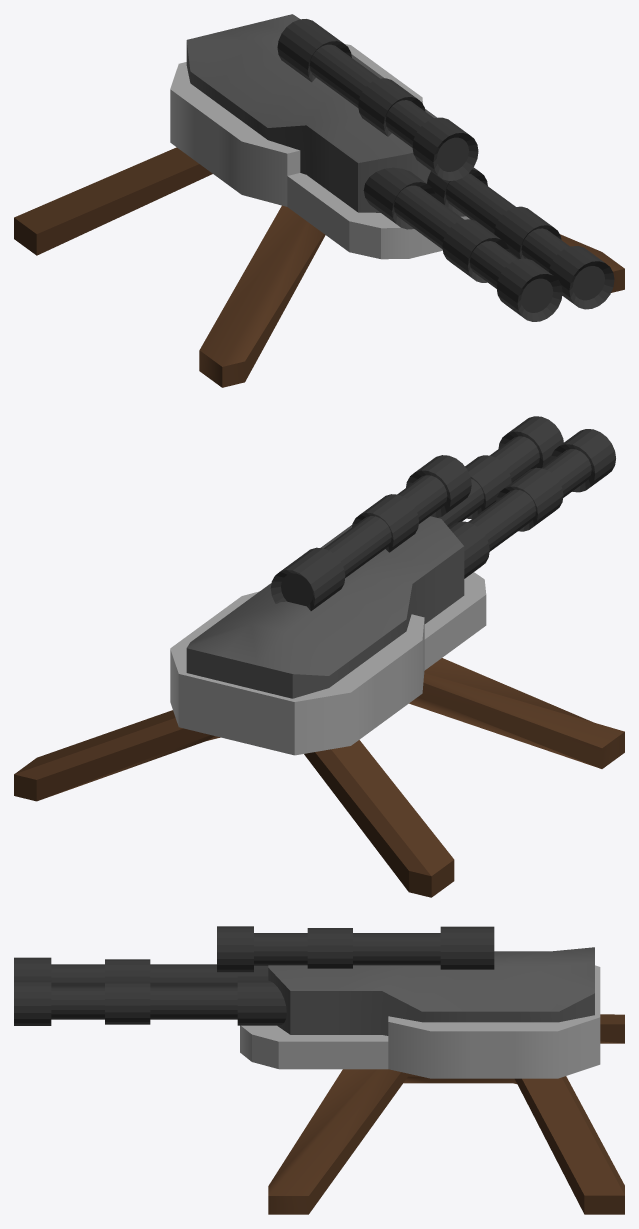
The model's file is Machine Gun.fbx.
The picture shows the model from 3 angles, top to bottom: view 1: azimuth 30°, elevation 25°; view 2: azimuth 150°, elevation 25°; view 3: azimuth 270°, elevation 25°; orthographic projection. The views are drawn at different scales.
Parts seen in each view (by area): view 1: polySurface3, polySurface5, polySurface6, polySurface2, polySurface1, polySurface4; view 2: polySurface5, polySurface3, polySurface6, polySurface2, polySurface1, polySurface4; view 3: polySurface3, polySurface5, polySurface6, polySurface2, polySurface4, polySurface1.
Part boxes in pixels (left/top/right/bottom): polySurface3: left=186, top=14, right=437, bottom=212; polySurface5: left=14, top=147, right=624, bottom=387; polySurface6: left=170, top=44, right=469, bottom=259; polySurface2: left=277, top=19, right=478, bottom=180; polySurface1: left=363, top=167, right=562, bottom=321; polySurface4: left=427, top=167, right=614, bottom=309; polySurface5: left=14, top=658, right=624, bottom=897; polySurface3: left=186, top=516, right=464, bottom=698; polySurface6: left=170, top=572, right=486, bottom=755; polySurface2: left=270, top=455, right=471, bottom=610; polySurface1: left=449, top=429, right=615, bottom=578; polySurface4: left=438, top=416, right=563, bottom=527; polySurface3: left=268, top=947, right=594, bottom=1035; polySurface5: left=268, top=1014, right=624, bottom=1214; polySurface6: left=240, top=965, right=600, bottom=1078; polySurface2: left=217, top=926, right=494, bottom=972; polySurface4: left=14, top=980, right=286, bottom=1025; polySurface1: left=14, top=957, right=268, bottom=986.
Bounding box in the file's own units: 6.35 × 3.28 × 9.07.
